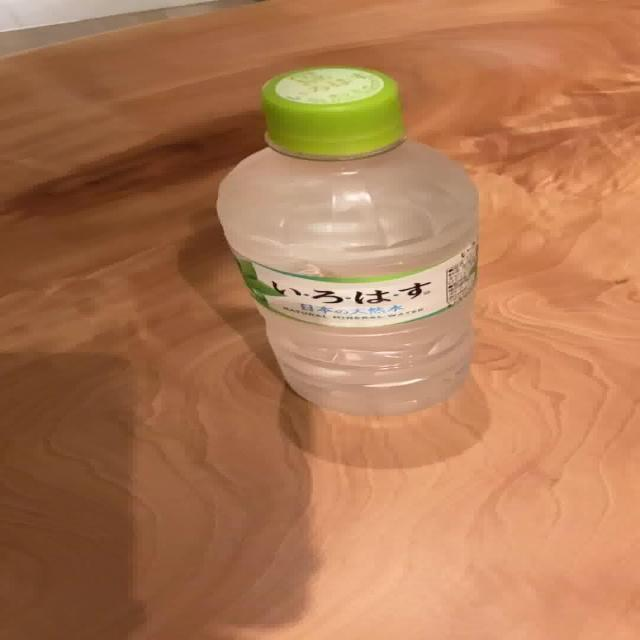chai: (218, 66, 478, 415)
